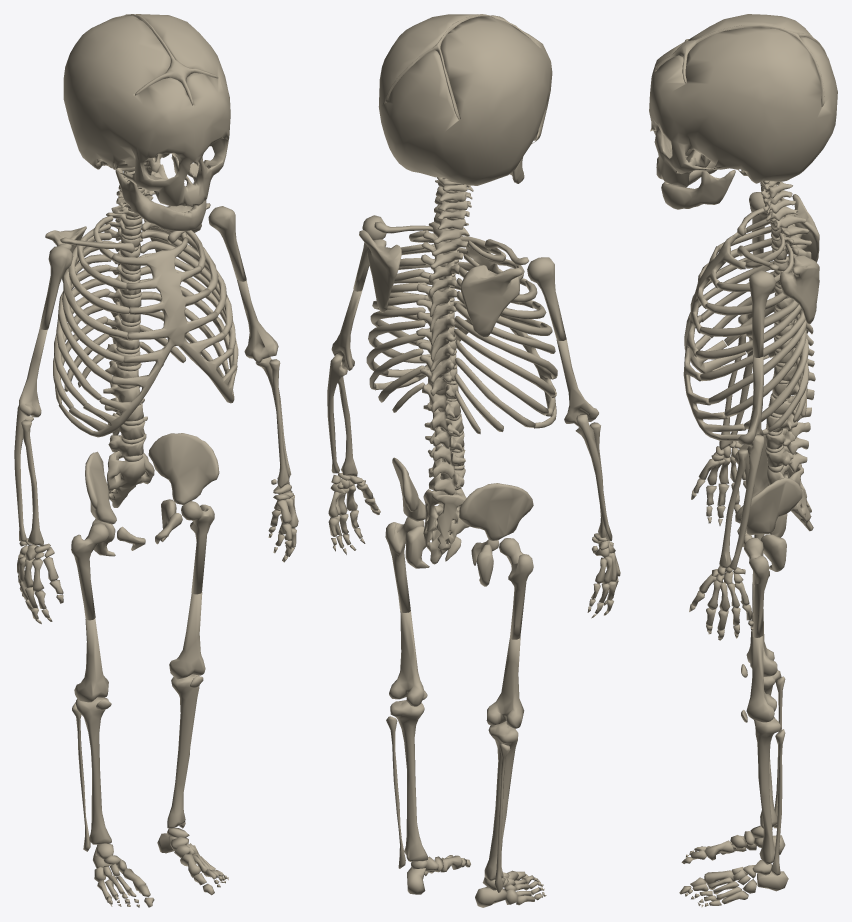
Rendered from pediatric_infant_female.skeletal.LOD2.glb.
The picture shows the model from 3 angles, left to right: view 1: azimuth 30°, elevation 25°; view 2: azimuth 150°, elevation 25°; view 3: azimuth 270°, elevation 25°; orthographic projection. The views are drawn at different scales.
Visible parts, largest first — view 1: PEDIATRIC.INFANT.FEMALE.SKELETAL.CRANIUM_CORTICAL, PEDIATRIC.INFANT.FEMALE.SKELETAL.RIBS_CORTICAL, PEDIATRIC.INFANT.FEMALE.SKELETAL.CARTILAGE_TRUNK, PEDIATRIC.INFANT.FEMALE.SKELETAL.PELVIS_CORTICAL, PEDIATRIC.INFANT.FEMALE.SKELETAL.TIBIAE_CORTICAL, PEDIATRIC.INFANT.FEMALE.SKELETAL.ANKLES_AND_FOOT_CORTICAL, PEDIATRIC.INFANT.FEMALE.SKELETAL.WRISTS_AND_HAND_BONES_CORTI, PEDIATRIC.INFANT.FEMALE.SKELETAL.FEMORA_LOWER_CORTICAL, PEDIATRIC.INFANT.FEMALE.SKELETAL.FEMORA_UPPER_CORTICAL, PEDIATRIC.INFANT.FEMALE.SKELETAL.THORACIC_SPINE_CORTICAL, PEDIATRIC.INFANT.FEMALE.SKELETAL.HUMERI_LOWER_CORTICAL, PEDIATRIC.INFANT.FEMALE.SKELETAL.HUMERI_UPPER_CORTICAL (+9 smaller); view 2: PEDIATRIC.INFANT.FEMALE.SKELETAL.CRANIUM_CORTICAL, PEDIATRIC.INFANT.FEMALE.SKELETAL.RIBS_CORTICAL, PEDIATRIC.INFANT.FEMALE.SKELETAL.PELVIS_CORTICAL, PEDIATRIC.INFANT.FEMALE.SKELETAL.THORACIC_SPINE_CORTICAL, PEDIATRIC.INFANT.FEMALE.SKELETAL.SCAPULAE_CORTICAL, PEDIATRIC.INFANT.FEMALE.SKELETAL.TIBIAE_CORTICAL, PEDIATRIC.INFANT.FEMALE.SKELETAL.WRISTS_AND_HAND_BONES_CORTI, PEDIATRIC.INFANT.FEMALE.SKELETAL.FEMORA_LOWER_CORTICAL, PEDIATRIC.INFANT.FEMALE.SKELETAL.CARTILAGE_TRUNK, PEDIATRIC.INFANT.FEMALE.SKELETAL.FEMORA_UPPER_CORTICAL, PEDIATRIC.INFANT.FEMALE.SKELETAL.LUMBAR_SPINE_CORTICAL, PEDIATRIC.INFANT.FEMALE.SKELETAL.ANKLES_AND_FOOT_CORTICAL (+9 smaller); view 3: PEDIATRIC.INFANT.FEMALE.SKELETAL.CRANIUM_CORTICAL, PEDIATRIC.INFANT.FEMALE.SKELETAL.RIBS_CORTICAL, PEDIATRIC.INFANT.FEMALE.SKELETAL.CARTILAGE_TRUNK, PEDIATRIC.INFANT.FEMALE.SKELETAL.WRISTS_AND_HAND_BONES_CORTI, PEDIATRIC.INFANT.FEMALE.SKELETAL.ANKLES_AND_FOOT_CORTICAL, PEDIATRIC.INFANT.FEMALE.SKELETAL.PELVIS_CORTICAL, PEDIATRIC.INFANT.FEMALE.SKELETAL.SCAPULAE_CORTICAL, PEDIATRIC.INFANT.FEMALE.SKELETAL.TIBIAE_CORTICAL, PEDIATRIC.INFANT.FEMALE.SKELETAL.LUMBAR_SPINE_CORTICAL, PEDIATRIC.INFANT.FEMALE.SKELETAL.FEMORA_LOWER_CORTICAL, PEDIATRIC.INFANT.FEMALE.SKELETAL.THORACIC_SPINE_CORTICAL, PEDIATRIC.INFANT.FEMALE.SKELETAL.MANDIBLE_CORTICAL (+10 smaller).
Boxes of the visible parts, x1=… form: PEDIATRIC.INFANT.FEMALE.SKELETAL.CRANIUM_CORTICAL: x1=63, y1=14, x2=230, y2=207; PEDIATRIC.INFANT.FEMALE.SKELETAL.RIBS_CORTICAL: x1=53, y1=216, x2=238, y2=408; PEDIATRIC.INFANT.FEMALE.SKELETAL.CARTILAGE_TRUNK: x1=58, y1=186, x2=237, y2=461; PEDIATRIC.INFANT.FEMALE.SKELETAL.PELVIS_CORTICAL: x1=85, y1=433, x2=219, y2=556; PEDIATRIC.INFANT.FEMALE.SKELETAL.TIBIAE_CORTICAL: x1=75, y1=674, x2=199, y2=844; PEDIATRIC.INFANT.FEMALE.SKELETAL.ANKLES_AND_FOOT_CORTICAL: x1=93, y1=828, x2=228, y2=907; PEDIATRIC.INFANT.FEMALE.SKELETAL.WRISTS_AND_HAND_BONES_CORTI: x1=17, y1=477, x2=298, y2=624; PEDIATRIC.INFANT.FEMALE.SKELETAL.FEMORA_LOWER_CORTICAL: x1=74, y1=592, x2=205, y2=702; PEDIATRIC.INFANT.FEMALE.SKELETAL.FEMORA_UPPER_CORTICAL: x1=71, y1=501, x2=214, y2=620; PEDIATRIC.INFANT.FEMALE.SKELETAL.THORACIC_SPINE_CORTICAL: x1=104, y1=211, x2=142, y2=366; PEDIATRIC.INFANT.FEMALE.SKELETAL.HUMERI_LOWER_CORTICAL: x1=19, y1=280, x2=278, y2=417; PEDIATRIC.INFANT.FEMALE.SKELETAL.HUMERI_UPPER_CORTICAL: x1=39, y1=206, x2=246, y2=329; PEDIATRIC.INFANT.FEMALE.SKELETAL.CRANIUM_CORTICAL: x1=378, y1=14, x2=552, y2=185; PEDIATRIC.INFANT.FEMALE.SKELETAL.RIBS_CORTICAL: x1=366, y1=230, x2=557, y2=434; PEDIATRIC.INFANT.FEMALE.SKELETAL.PELVIS_CORTICAL: x1=392, y1=457, x2=533, y2=586; PEDIATRIC.INFANT.FEMALE.SKELETAL.THORACIC_SPINE_CORTICAL: x1=416, y1=231, x2=467, y2=412; PEDIATRIC.INFANT.FEMALE.SKELETAL.SCAPULAE_CORTICAL: x1=359, y1=230, x2=522, y2=337; PEDIATRIC.INFANT.FEMALE.SKELETAL.TIBIAE_CORTICAL: x1=390, y1=700, x2=518, y2=881; PEDIATRIC.INFANT.FEMALE.SKELETAL.WRISTS_AND_HAND_BONES_CORTI: x1=328, y1=473, x2=620, y2=618; PEDIATRIC.INFANT.FEMALE.SKELETAL.FEMORA_LOWER_CORTICAL: x1=389, y1=611, x2=524, y2=728; PEDIATRIC.INFANT.FEMALE.SKELETAL.CARTILAGE_TRUNK: x1=375, y1=190, x2=557, y2=490; PEDIATRIC.INFANT.FEMALE.SKELETAL.FEMORA_UPPER_CORTICAL: x1=385, y1=517, x2=533, y2=639; PEDIATRIC.INFANT.FEMALE.SKELETAL.LUMBAR_SPINE_CORTICAL: x1=423, y1=400, x2=465, y2=495; PEDIATRIC.INFANT.FEMALE.SKELETAL.ANKLES_AND_FOOT_CORTICAL: x1=407, y1=855, x2=546, y2=907; PEDIATRIC.INFANT.FEMALE.SKELETAL.CRANIUM_CORTICAL: x1=649, y1=14, x2=837, y2=186; PEDIATRIC.INFANT.FEMALE.SKELETAL.RIBS_CORTICAL: x1=695, y1=218, x2=809, y2=432; PEDIATRIC.INFANT.FEMALE.SKELETAL.CARTILAGE_TRUNK: x1=683, y1=183, x2=790, y2=472; PEDIATRIC.INFANT.FEMALE.SKELETAL.WRISTS_AND_HAND_BONES_CORTI: x1=689, y1=441, x2=753, y2=640; PEDIATRIC.INFANT.FEMALE.SKELETAL.ANKLES_AND_FOOT_CORTICAL: x1=679, y1=825, x2=788, y2=907; PEDIATRIC.INFANT.FEMALE.SKELETAL.PELVIS_CORTICAL: x1=734, y1=435, x2=802, y2=571; PEDIATRIC.INFANT.FEMALE.SKELETAL.SCAPULAE_CORTICAL: x1=779, y1=194, x2=819, y2=323; PEDIATRIC.INFANT.FEMALE.SKELETAL.TIBIAE_CORTICAL: x1=754, y1=670, x2=781, y2=864; PEDIATRIC.INFANT.FEMALE.SKELETAL.LUMBAR_SPINE_CORTICAL: x1=765, y1=383, x2=814, y2=472; PEDIATRIC.INFANT.FEMALE.SKELETAL.FEMORA_LOWER_CORTICAL: x1=746, y1=584, x2=777, y2=722; PEDIATRIC.INFANT.FEMALE.SKELETAL.THORACIC_SPINE_CORTICAL: x1=771, y1=217, x2=815, y2=381; PEDIATRIC.INFANT.FEMALE.SKELETAL.MANDIBLE_CORTICAL: x1=661, y1=161, x2=735, y2=209.
Bounding box in the file's own units: 0.252 × 0.7559 × 0.1511.
